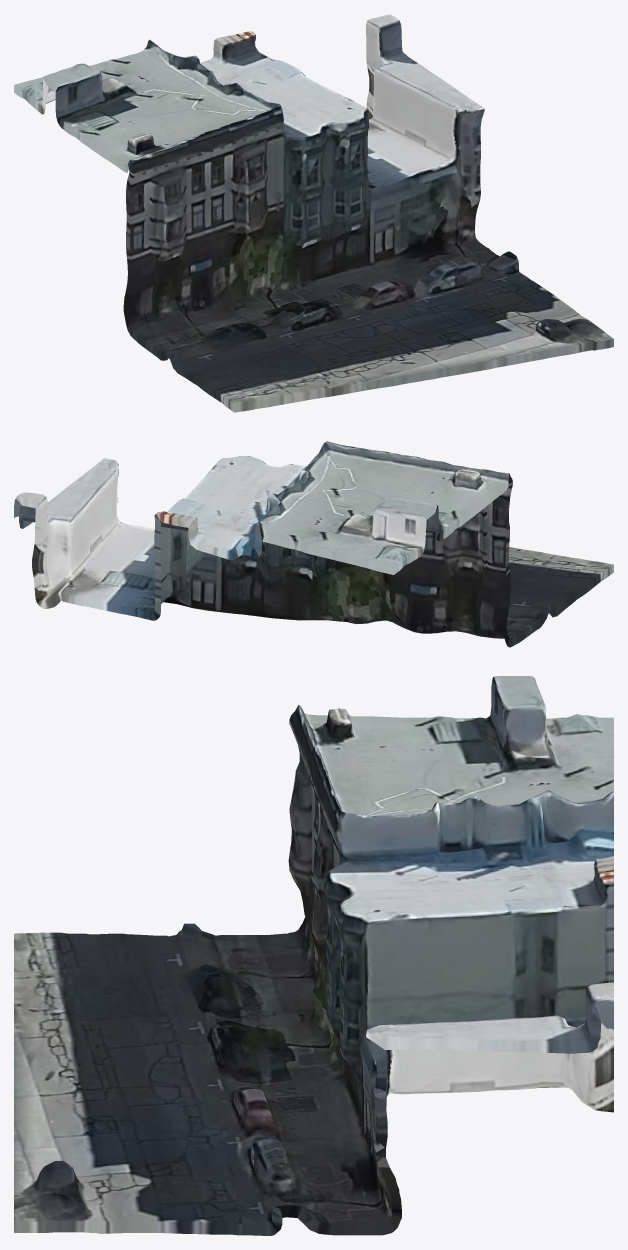
Rendered from z20-167739-405198-h0-yup-uvflip-v3-world.glb.
3 views of the same model, one above another, from view 1: azimuth 30°, elevation 25°; view 2: azimuth 150°, elevation 25°; view 3: azimuth 270°, elevation 25° (orthographic). The views are drawn at different scales.
Size of the model in its own units: 30.16 by 17.16 by 30.32.
1 material, 1 textured.
